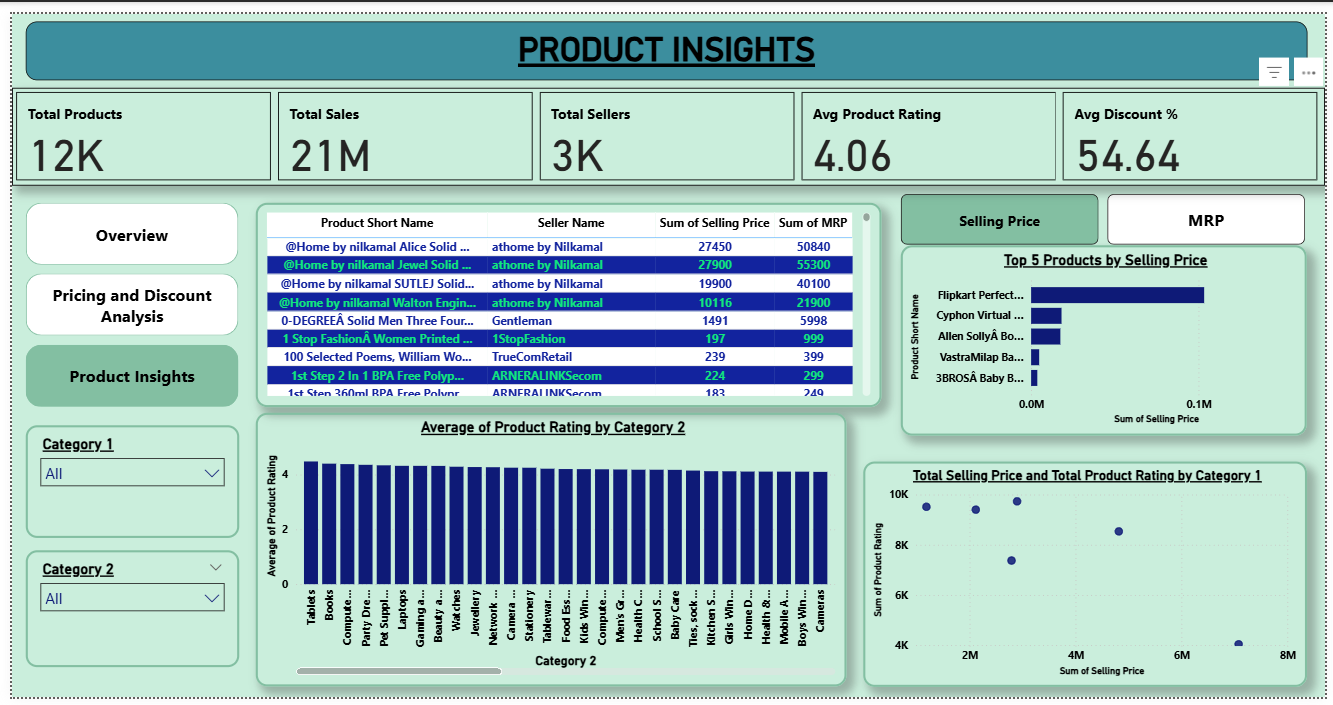

The dashboard page shown, as its layout file describes it:
{"tool":"powerbi","page":{"name":"Product Insights","canvas":[1500,780],"ordinal":2},"visuals":[{"type":"textbox","box":[15,8.8,1465,67.5],"z":0},{"type":"tableEx","fields":{"Values":["dataset.Product Short Name","dataset.Seller Name","Sum(dataset.Selling Price)","Sum(dataset.MRP)"]},"box":[278.8,215,715,233.8],"z":1000},{"type":"clusteredColumnChart","fields":{"Category":["dataset.Category 2"],"Y":["Avg(dataset.Product Rating)"]},"box":[278.8,456.2,675,312.5],"z":2000},{"type":"barChart","title":"Top 5 Products by Selling Price","fields":{"Category":["dataset.Product Short Name"],"Y":["Sum(dataset.Selling Price)"]},"box":[1016.2,263.8,463.8,217.5],"z":4000},{"type":"bookmarkNavigator","box":[1016.2,205,463.8,58.8],"z":5000},{"type":"scatterChart","title":"Total Selling Price and Total Product Rating by Category 1","fields":{"Category":["dataset.Category 1"],"X":["Sum(dataset.Selling Price)"],"Y":["Sum(dataset.Product Rating)"]},"box":[972.5,511.2,507.5,257.5],"z":6000},{"type":"cardVisual","fields":{"Data":["Measure Table.Total Products","Measure Table.Total Sales","Measure Table.Total Sellers","Measure Table.Avg Product Rating","Measure Table.Avg Discount %"]},"box":[0,84.5,1500.5,111.3],"z":7000},{"type":"pageNavigator","box":[15.5,215.6,243.7,233.9],"z":8000},{"type":"slicer","fields":{"Values":["dataset.Category 1"]},"box":[15,470,243.8,128.8],"z":9000},{"type":"slicer","fields":{"Values":["dataset.Category 2"]},"box":[15,612.5,243.8,133.8],"z":10000}]}

Visuals, with their boxes in screenshot pixels (x1, y1, x2, y2), scaled from the page's 1500x780 canvas onto the 1333x705 screenshot:
textbox: [left=13, top=8, right=1315, bottom=69]
tableEx - dataset.Product Short Name x dataset.Seller Name: [left=248, top=194, right=883, bottom=406]
clusteredColumnChart - dataset.Category 2 x Avg(dataset.Product Rating): [left=248, top=412, right=848, bottom=695]
"Top 5 Products by Selling Price" barChart: [left=903, top=238, right=1315, bottom=435]
bookmarkNavigator: [left=903, top=185, right=1315, bottom=238]
"Total Selling Price and Total Product Rating by Category 1" scatterChart: [left=864, top=462, right=1315, bottom=695]
cardVisual - Measure Table.Total Products x Measure Table.Total Sales: [left=0, top=76, right=1332, bottom=177]
pageNavigator: [left=14, top=195, right=230, bottom=406]
slicer - dataset.Category 1: [left=13, top=425, right=230, bottom=541]
slicer - dataset.Category 2: [left=13, top=554, right=230, bottom=675]
